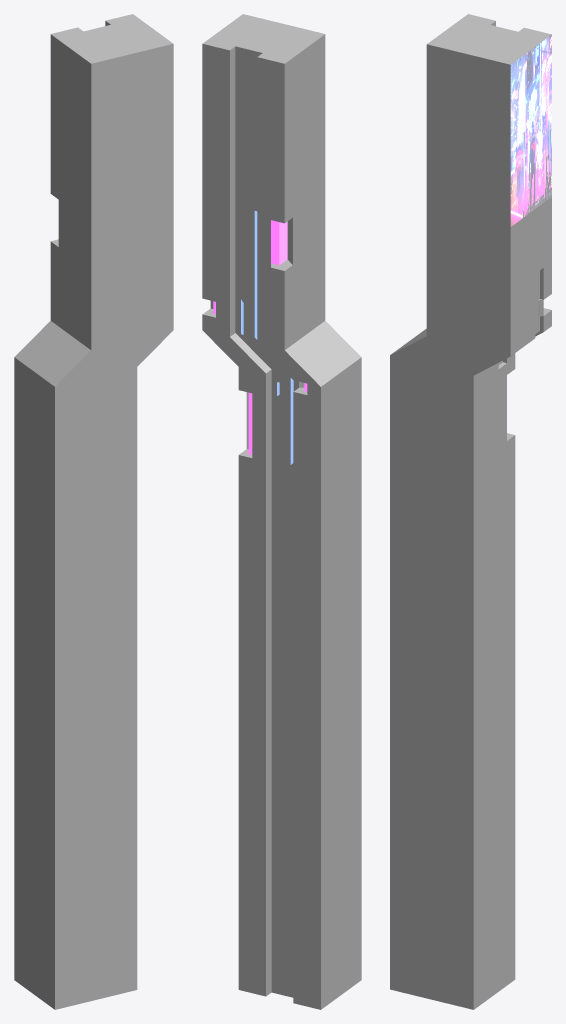
The model's file is FUT0210044.fbx.
3 views of the same model, side by side, from view 1: azimuth 30°, elevation 25°; view 2: azimuth 150°, elevation 25°; view 3: azimuth 330°, elevation 25° (orthographic).
Parts seen in each view (by area): view 1: smFUT0210044; view 2: smFUT0210044; view 3: smFUT0210044.
Part boxes in pixels (<box>): smFUT0210044: <box>14,14,173,1009</box>; smFUT0210044: <box>202,14,361,1009</box>; smFUT0210044: <box>390,14,551,1009</box>.
Size of the model in its own units: 465 by 3514 by 276.
